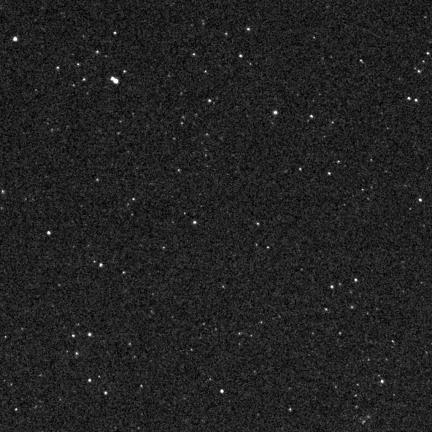blob: (273, 111, 278, 115)
